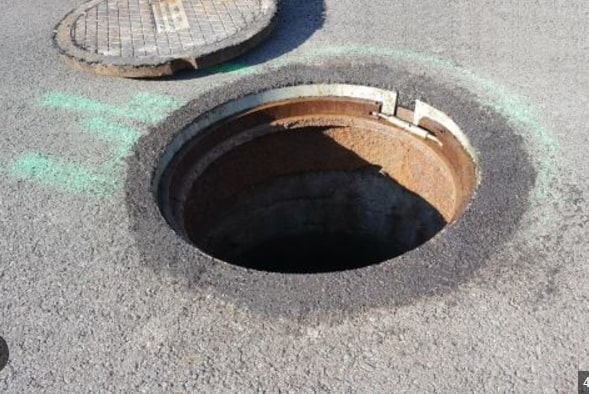open_manhole: (166, 88, 495, 270)
